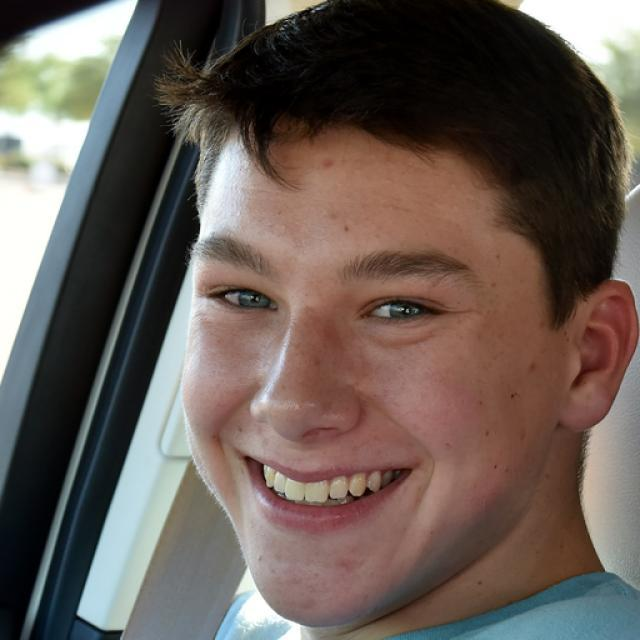happy: (170, 124, 559, 622)
